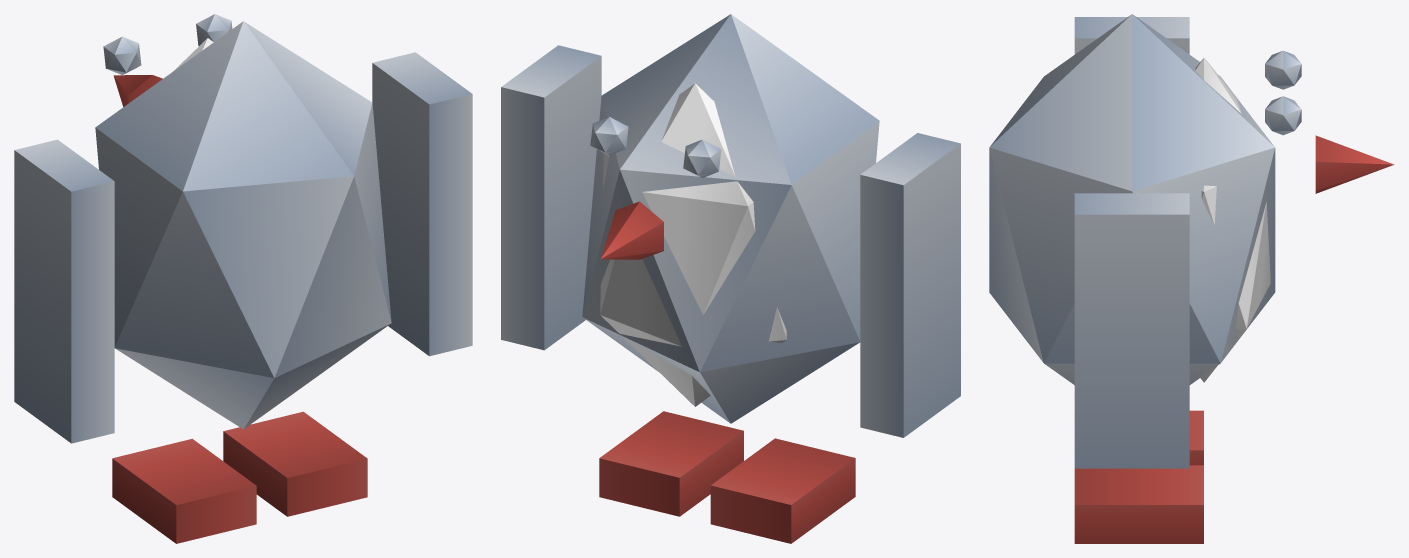
Rendered from plush_penguin.fbx.
The picture shows the model from 3 angles, left to right: view 1: azimuth 30°, elevation 25°; view 2: azimuth 150°, elevation 25°; view 3: azimuth 270°, elevation 25°; orthographic projection.
Parts seen in each view (by area): view 1: plush_penguin; view 2: plush_penguin; view 3: plush_penguin.
Boxes of the visible parts, x1,y1,x2,y2 form: plush_penguin: [14, 14, 472, 543]; plush_penguin: [501, 14, 960, 543]; plush_penguin: [989, 14, 1394, 543].
Bounding box in the file's own units: 228 × 260 × 198.
